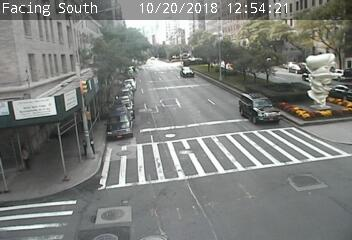car: (242, 96, 276, 123), (180, 65, 193, 78)
